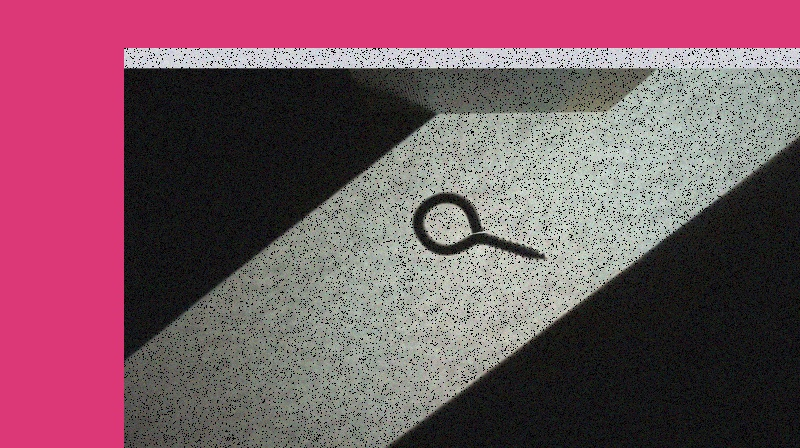O001: (407, 190, 547, 262)
